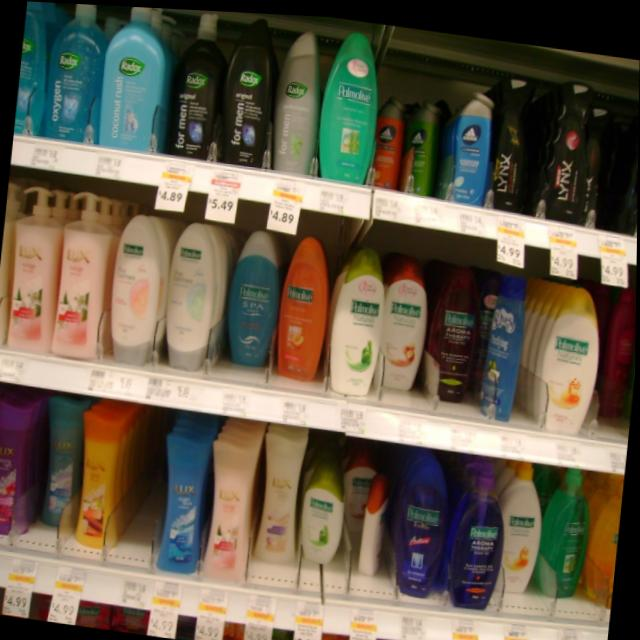q100: (320, 232, 395, 403), (293, 451, 356, 576)
q73: (65, 393, 142, 560)
